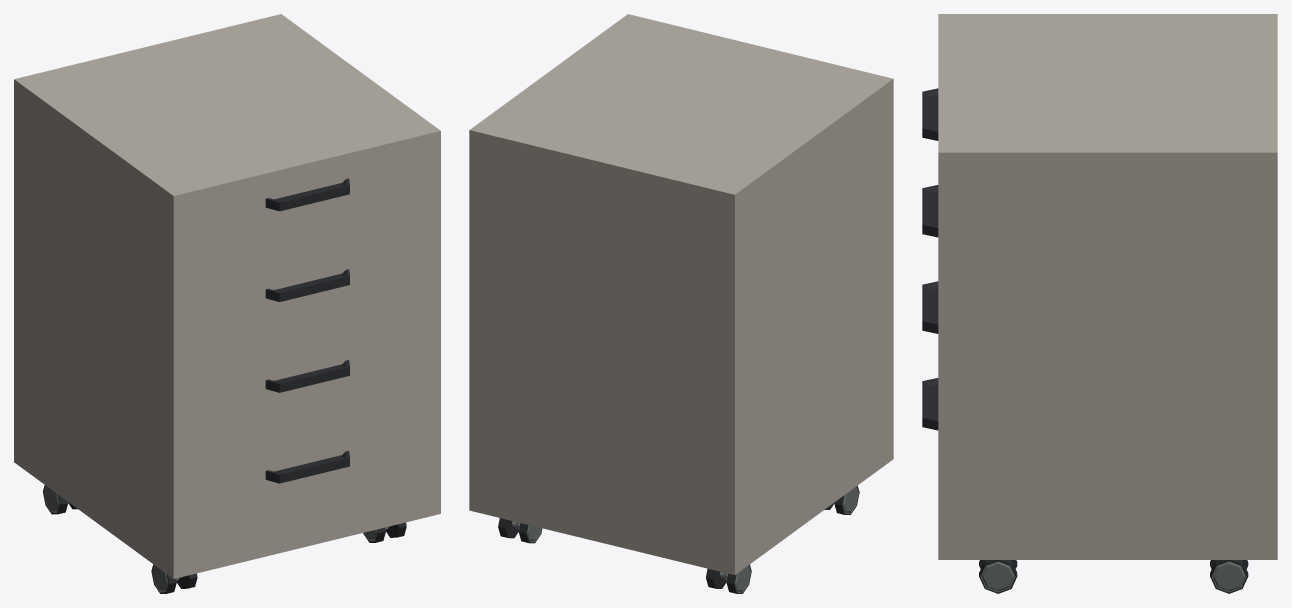
File: SM_Ambry_Small.gltf
3 views of the same model, side by side, from view 1: azimuth 30°, elevation 25°; view 2: azimuth 150°, elevation 25°; view 3: azimuth 270°, elevation 25° (orthographic). The views are drawn at different scales.
Visible parts, largest first — view 1: SM_Ambry_Small, SM_Shelf_For_Locker_04_Small, SM_Shelf_For_Locker_01_Small, SM_Shelf_For_Locker_03_Small, SM_Shelf_For_Locker_02_Small; view 2: SM_Ambry_Small, SM_Shelf_For_Locker_04_Small; view 3: SM_Ambry_Small, SM_Shelf_For_Locker_04_Small, SM_Shelf_For_Locker_01_Small, SM_Shelf_For_Locker_02_Small, SM_Shelf_For_Locker_03_Small.
Boxes of the visible parts, box(x1,y1,x2,y2) form: SM_Ambry_Small: box(14, 14, 440, 593); SM_Shelf_For_Locker_04_Small: box(168, 413, 440, 578); SM_Shelf_For_Locker_01_Small: box(168, 141, 440, 296); SM_Shelf_For_Locker_03_Small: box(168, 322, 440, 478); SM_Shelf_For_Locker_02_Small: box(168, 232, 440, 387); SM_Ambry_Small: box(469, 14, 893, 593); SM_Shelf_For_Locker_04_Small: box(888, 359, 893, 462); SM_Ambry_Small: box(938, 14, 1277, 593); SM_Shelf_For_Locker_04_Small: box(922, 378, 949, 559); SM_Shelf_For_Locker_01_Small: box(922, 88, 949, 259); SM_Shelf_For_Locker_02_Small: box(922, 185, 949, 356); SM_Shelf_For_Locker_03_Small: box(922, 281, 949, 452).
Bounding box in the file's own units: 0.6 × 0.9057 × 0.6501.
